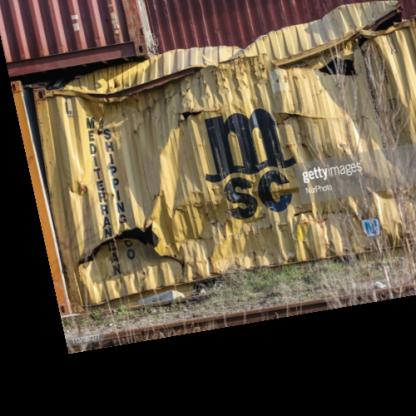Damage: (20, 17, 415, 295), (71, 60, 216, 124), (72, 207, 193, 272), (298, 40, 369, 88)
